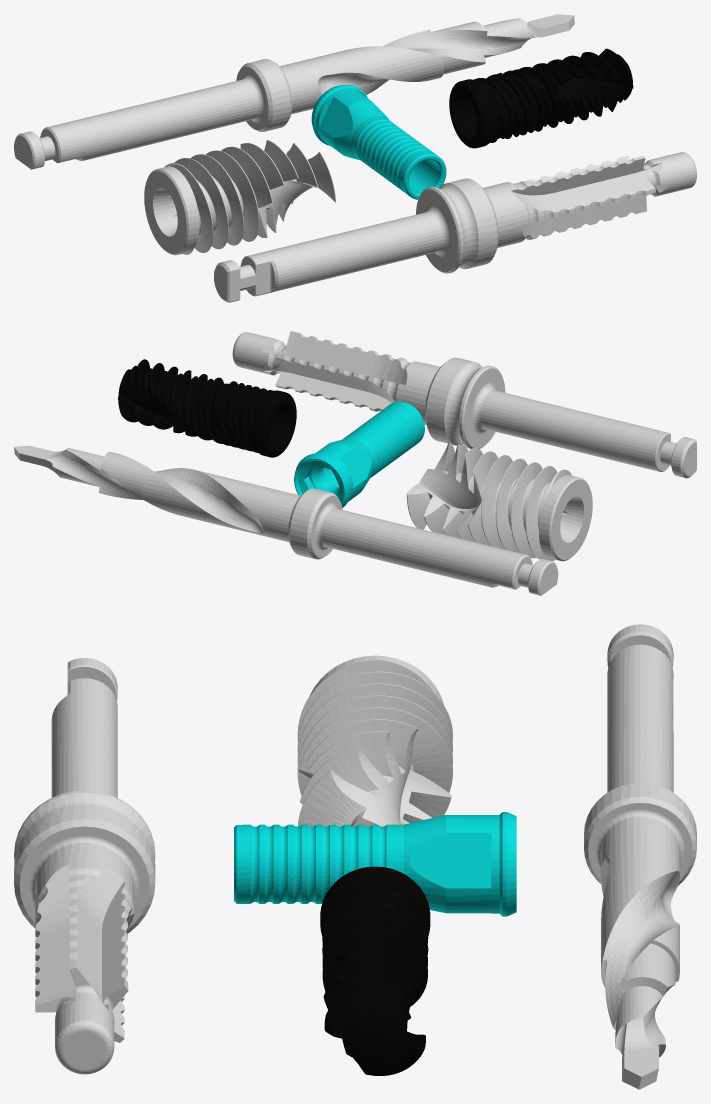
File: PROTESIS.glb
3 views of the same model, one above another, from view 1: azimuth 30°, elevation 25°; view 2: azimuth 150°, elevation 25°; view 3: azimuth 270°, elevation 25° (orthographic). The views are drawn at different scales.
Parts seen in each view (by area): view 1: Object.3, Object.2, Object.5, Object.4, Object.1; view 2: Object.3, Object.2, Object.5, Object.4, Object.1; view 3: Object.3, Object.2, Object.5, Object.1, Object.4.
Boxes of the visible parts, bbox=[...] form: Object.3: bbox=[214, 152, 696, 302]; Object.2: bbox=[14, 14, 574, 169]; Object.5: bbox=[144, 140, 335, 255]; Object.4: bbox=[449, 48, 633, 148]; Object.1: bbox=[311, 85, 446, 199]; Object.3: bbox=[232, 331, 696, 478]; Object.2: bbox=[14, 445, 558, 595]; Object.5: bbox=[406, 441, 592, 561]; Object.4: bbox=[118, 359, 296, 457]; Object.1: bbox=[294, 401, 424, 507]; Object.3: bbox=[14, 658, 155, 1074]; Object.2: bbox=[584, 624, 696, 1089]; Object.5: bbox=[297, 655, 452, 826]; Object.1: bbox=[234, 812, 516, 916]; Object.4: bbox=[320, 866, 430, 1075].
Bounding box in the file's own units: 0.204 × 0.035 × 0.1369.
